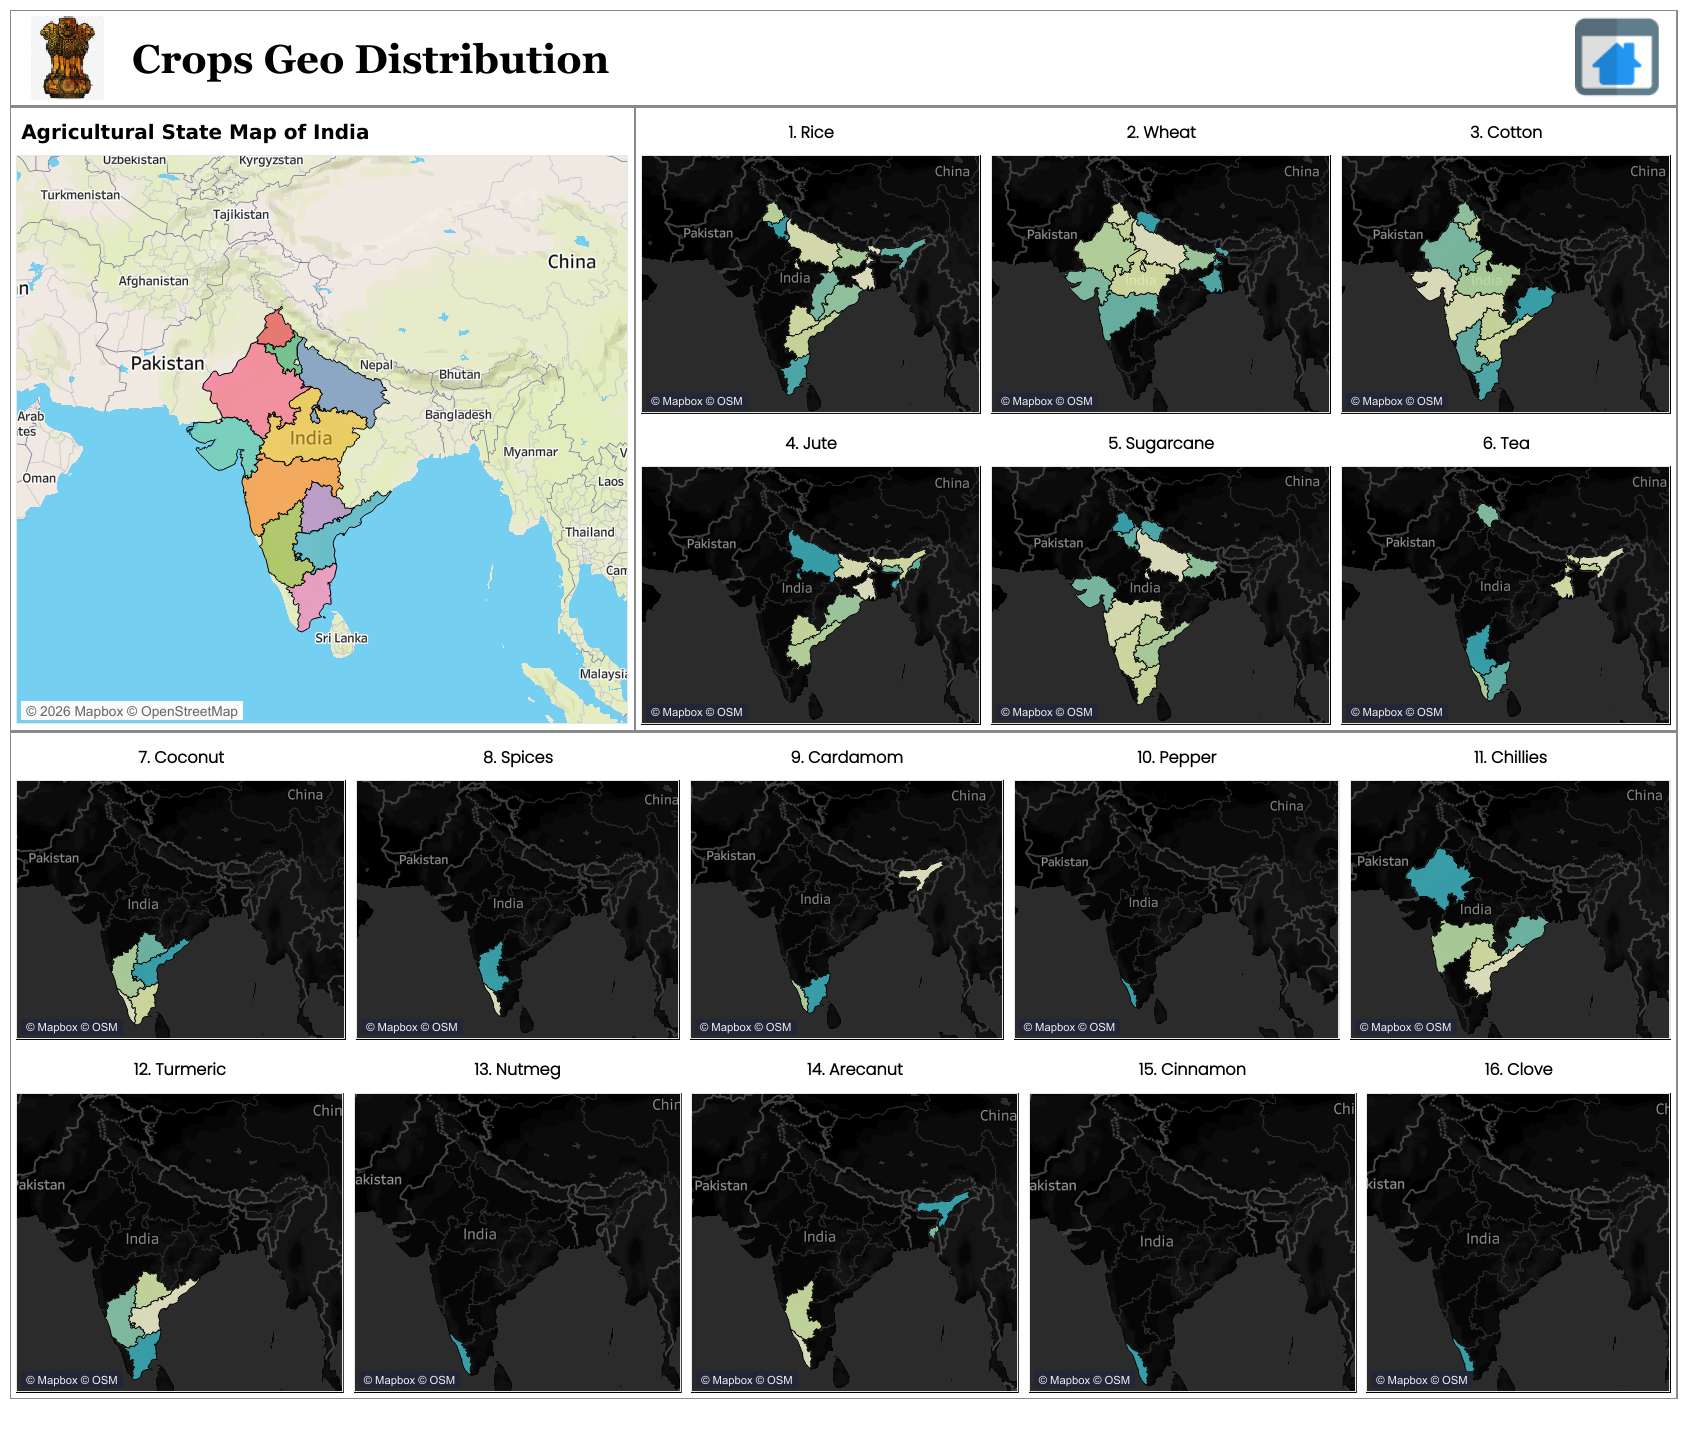

What the dashboard file says about the page in this screenshot:
{"tool":"tableau","page":{"name":"Crops Geo Distribution","canvas":[1350,1150],"ordinal":1},"visuals":[{"type":"image","param":"Image/download.jpg","box":[9,9,90,75]},{"type":"text","box":[99,9,1242,75]},{"type":"dashboard-object","box":[1255,12,77,67]},{"type":"worksheet","title":"Agricultural State Map of India ","mark":"Multipolygon","rows":["Latitude(° N)"],"cols":["Longitude(° E)"],"box":[9,86,498,498]},{"type":"worksheet","title":"Major Crops In India: Rice","mark":"Multipolygon","rows":["Latitude(° N) (Geography of India1)"],"cols":["Longitude(° E) (Geography of India1)"],"box":[509,86,280,249]},{"type":"worksheet","title":"Major Crops In India: Wheat","mark":"Multipolygon","rows":["Latitude(° N) (Geography of India1)"],"cols":["Longitude(° E) (Geography of India1)"],"box":[789,86,280,249]},{"type":"worksheet","title":"Major Crops In India: Cotton","mark":"Multipolygon","rows":["Latitude(° N) (Geography of India1)"],"cols":["Longitude(° E) (Geography of India1)"],"box":[1069,86,272,249]},{"type":"worksheet","title":"Major Crops In India: Jute","mark":"Multipolygon","rows":["Latitude(° N) (Geography of India1)"],"cols":["Longitude(° E) (Geography of India1)"],"box":[509,335,280,249]},{"type":"worksheet","title":"Major Crops In India: Sugarcane","mark":"Multipolygon","rows":["Latitude(° N) (Geography of India1)"],"cols":["Longitude(° E) (Geography of India1)"],"box":[789,335,280,249]},{"type":"worksheet","title":"Major Crops In India: Tea","mark":"Multipolygon","rows":["Latitude(° N) (Geography of India1)"],"cols":["Longitude(° E) (Geography of India1)"],"box":[1069,335,272,249]},{"type":"worksheet","title":"Other Crops Grown in India: Coconut","mark":"Multipolygon","rows":["Latitude(° N) (Geography of India1)"],"cols":["Longitude(° E) (Geography of India1)"],"box":[9,586,272,250]},{"type":"worksheet","title":"Major Crops In India: Spices","mark":"Multipolygon","rows":["Latitude(° N) (Geography of India1)"],"cols":["Longitude(° E) (Geography of India1)"],"box":[281,586,267,250]},{"type":"worksheet","title":"Other Crops Grown in India: Cardamom","mark":"Multipolygon","rows":["Latitude(° N) (Geography of India1)"],"cols":["Longitude(° E) (Geography of India1)"],"box":[548,586,259,250]},{"type":"worksheet","title":"Other Crops Grown in India: Pepper","mark":"Multipolygon","rows":["Latitude(° N) (Geography of India1)"],"cols":["Longitude(° E) (Geography of India1)"],"box":[807,586,269,250]},{"type":"worksheet","title":"Other Crops Grown in India: Chillies","mark":"Multipolygon","rows":["Latitude(° N) (Geography of India1)"],"cols":["Longitude(° E) (Geography of India1)"],"box":[1076,586,265,250]},{"type":"worksheet","title":"Other Crops Grown in India: Turmeric","mark":"Multipolygon","rows":["Latitude(° N) (Geography of India1)"],"cols":["Longitude(° E) (Geography of India1)"],"box":[9,836,270,282]},{"type":"worksheet","title":"Other Crops Grown in India: Nutmeg","mark":"Multipolygon","rows":["Latitude(° N) (Geography of India1)"],"cols":["Longitude(° E) (Geography of India1)"],"box":[279,836,270,282]},{"type":"worksheet","title":"Other Crops Grown in India: Arecanut","mark":"Multipolygon","rows":["Latitude(° N) (Geography of India1)"],"cols":["Longitude(° E) (Geography of India1)"],"box":[549,836,270,282]},{"type":"worksheet","title":"Other Crops Grown in India: Cinnamon","mark":"Multipolygon","rows":["Latitude(° N) (Geography of India1)"],"cols":["Longitude(° E) (Geography of India1)"],"box":[819,836,270,282]},{"type":"worksheet","title":"Other Crops Grown in India: Clove","mark":"Multipolygon","rows":["Latitude(° N) (Geography of India1)"],"cols":["Longitude(° E) (Geography of India1)"],"box":[1089,836,252,282]}]}

Visuals, with their boxes in screenshot pixels (x1, y1, x2, y2), scaled from the page's 1350x1150 canvas onto the 1686x1436 screenshot:
image: [x1=11, y1=11, x2=124, y2=105]
text: [x1=124, y1=11, x2=1675, y2=105]
dashboard-object: [x1=1567, y1=15, x2=1664, y2=99]
"Agricultural State Map of India " worksheet (Multipolygon marks): [x1=11, y1=107, x2=633, y2=729]
"Major Crops In India: Rice" worksheet (Multipolygon marks): [x1=636, y1=107, x2=985, y2=418]
"Major Crops In India: Wheat" worksheet (Multipolygon marks): [x1=985, y1=107, x2=1335, y2=418]
"Major Crops In India: Cotton" worksheet (Multipolygon marks): [x1=1335, y1=107, x2=1675, y2=418]
"Major Crops In India: Jute" worksheet (Multipolygon marks): [x1=636, y1=418, x2=985, y2=729]
"Major Crops In India: Sugarcane" worksheet (Multipolygon marks): [x1=985, y1=418, x2=1335, y2=729]
"Major Crops In India: Tea" worksheet (Multipolygon marks): [x1=1335, y1=418, x2=1675, y2=729]
"Other Crops Grown in India: Coconut" worksheet (Multipolygon marks): [x1=11, y1=732, x2=351, y2=1044]
"Major Crops In India: Spices" worksheet (Multipolygon marks): [x1=351, y1=732, x2=684, y2=1044]
"Other Crops Grown in India: Cardamom" worksheet (Multipolygon marks): [x1=684, y1=732, x2=1008, y2=1044]
"Other Crops Grown in India: Pepper" worksheet (Multipolygon marks): [x1=1008, y1=732, x2=1344, y2=1044]
"Other Crops Grown in India: Chillies" worksheet (Multipolygon marks): [x1=1344, y1=732, x2=1675, y2=1044]
"Other Crops Grown in India: Turmeric" worksheet (Multipolygon marks): [x1=11, y1=1044, x2=348, y2=1396]
"Other Crops Grown in India: Nutmeg" worksheet (Multipolygon marks): [x1=348, y1=1044, x2=686, y2=1396]
"Other Crops Grown in India: Arecanut" worksheet (Multipolygon marks): [x1=686, y1=1044, x2=1023, y2=1396]
"Other Crops Grown in India: Cinnamon" worksheet (Multipolygon marks): [x1=1023, y1=1044, x2=1360, y2=1396]
"Other Crops Grown in India: Clove" worksheet (Multipolygon marks): [x1=1360, y1=1044, x2=1675, y2=1396]
